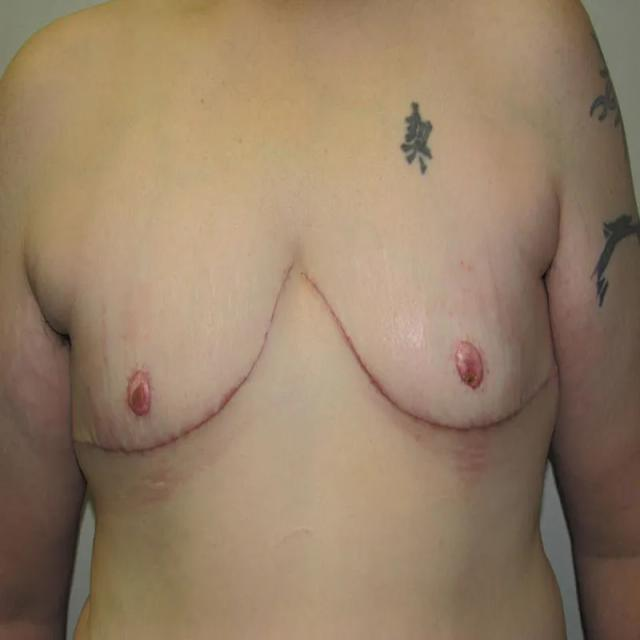Seno herido: (299, 212, 566, 472), (66, 212, 296, 490)
